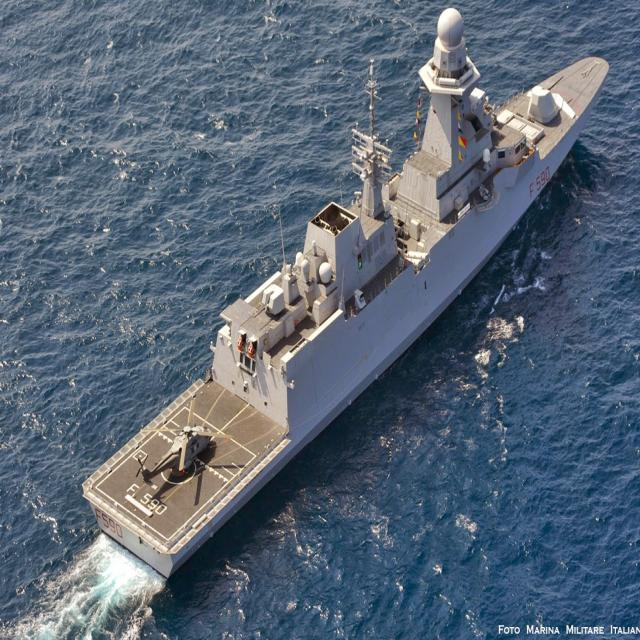Fragata: (1, 1, 404, 591)
